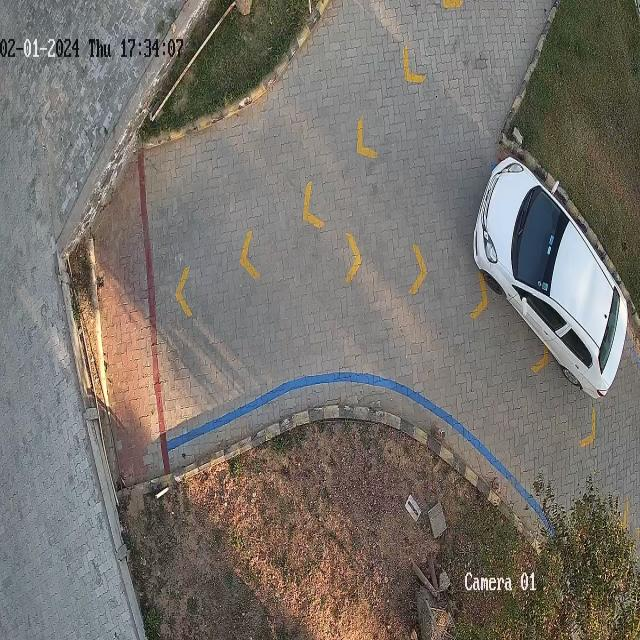car: (474, 155, 631, 402)
